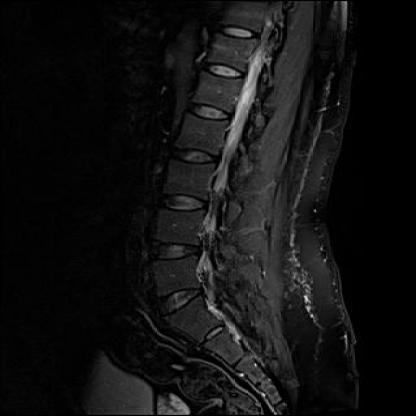Disc Bulgerotation: (147, 287, 211, 315), (141, 238, 204, 265)
